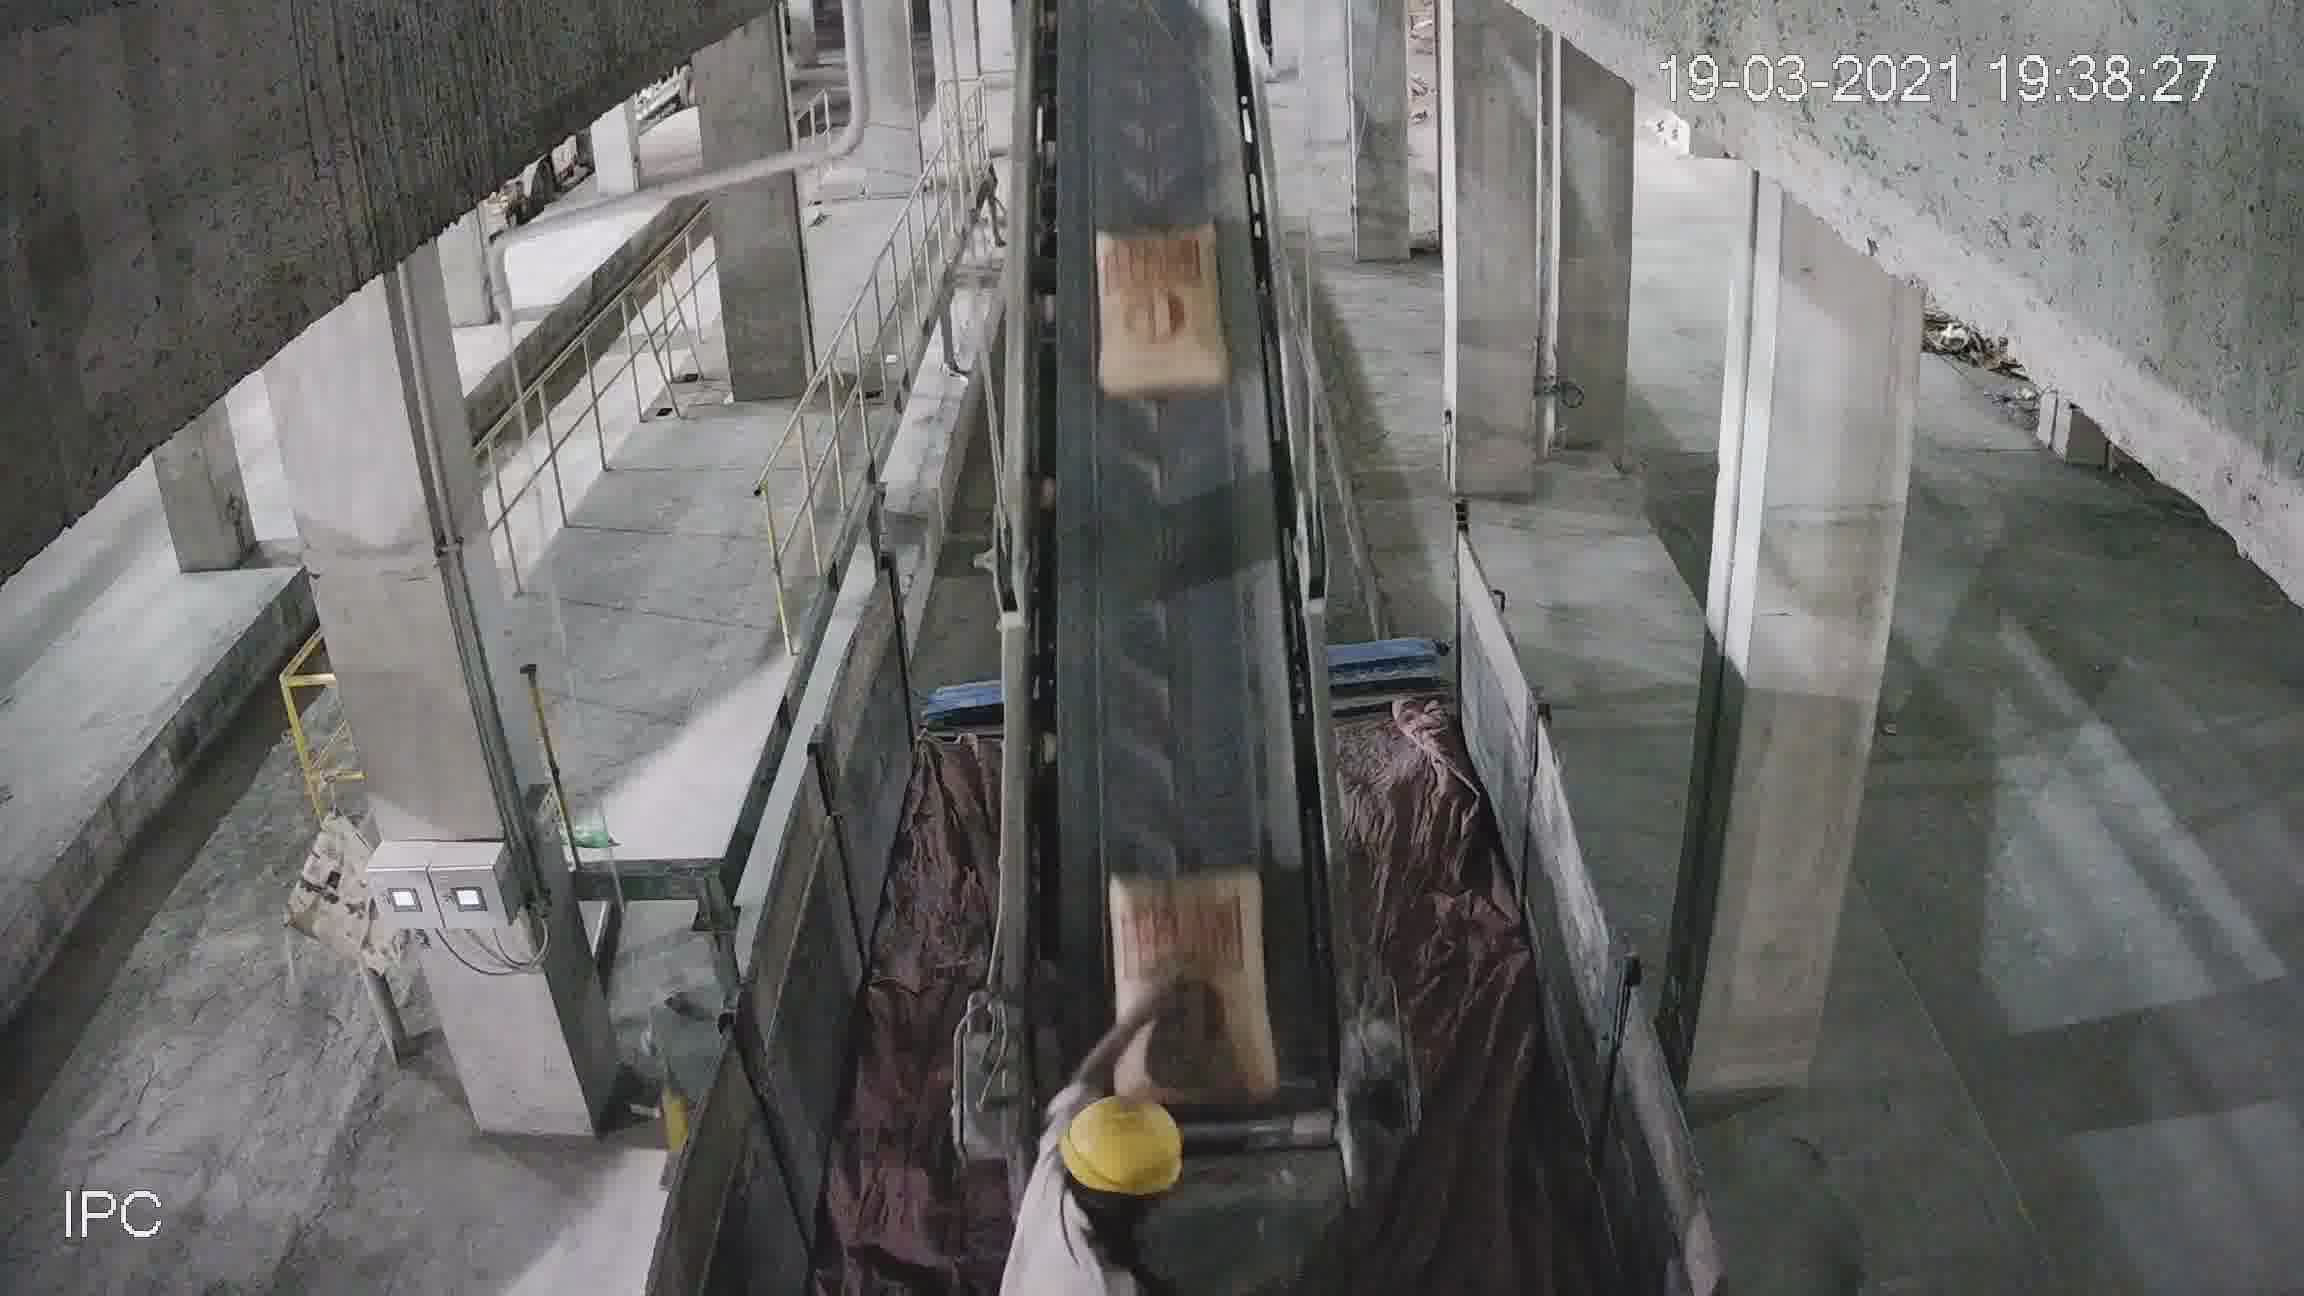bag: (1108, 867, 1268, 1078), (1097, 220, 1220, 396)
belt: (1014, 100, 1301, 1025)
